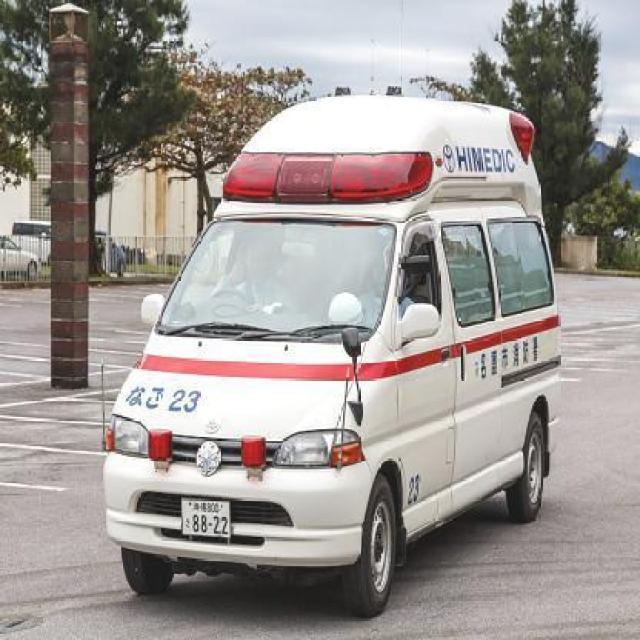emergency: (101, 85, 564, 617)
